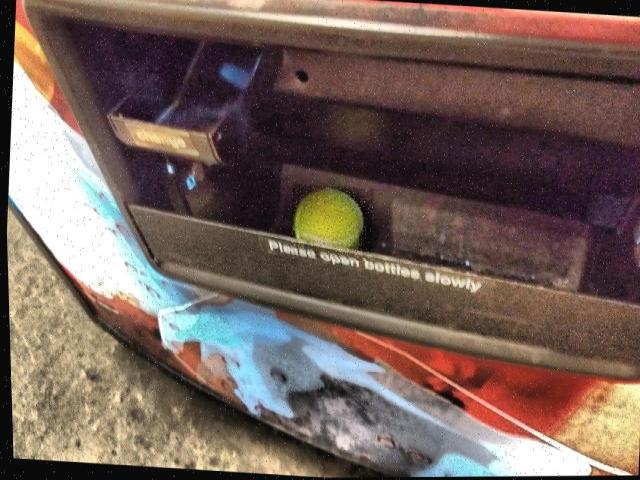tennis-ball: (295, 189, 363, 249)
